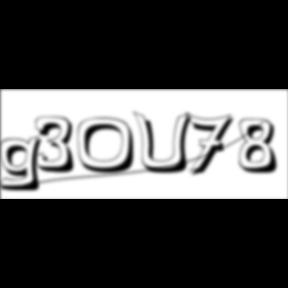3: (36, 116, 82, 176)
7: (186, 111, 240, 179)
8: (240, 117, 284, 176)
O: (78, 117, 142, 176)
U: (134, 110, 198, 176)
g: (0, 134, 50, 194)
